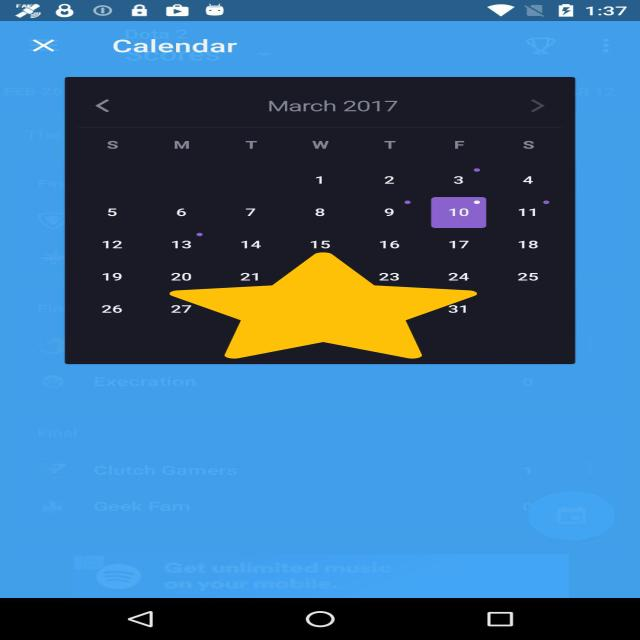forced continuity: (170, 252, 477, 359)
